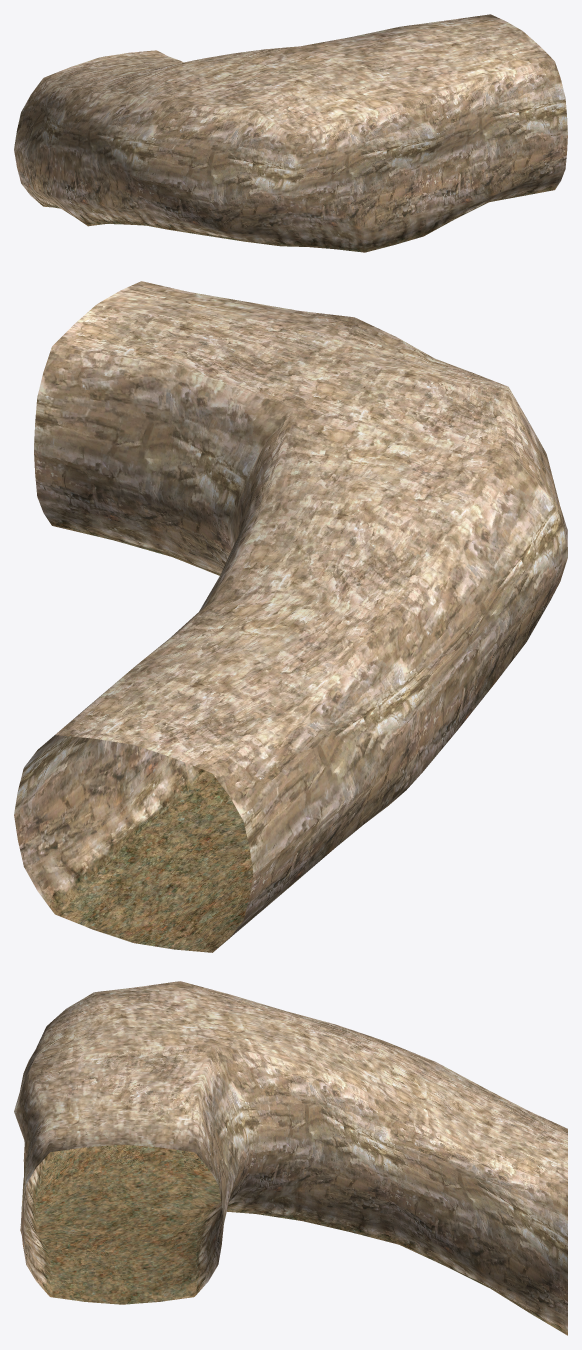
The model's file is thm_all_cave_s03_r23_mesh_r23.fbx.
3 views of the same model, one above another, from view 1: azimuth 30°, elevation 25°; view 2: azimuth 150°, elevation 25°; view 3: azimuth 270°, elevation 25° (orthographic). The views are drawn at different scales.
Visible parts, largest first — view 1: mesh_node; view 2: mesh_node; view 3: mesh_node.
Boxes of the visible parts, x1,y1,x2,y2 form: mesh_node: (14,14,567,252); mesh_node: (14,281,567,952); mesh_node: (14,981,567,1335).
Size of the model in its own units: 21.23 by 14.67 by 24.86.
